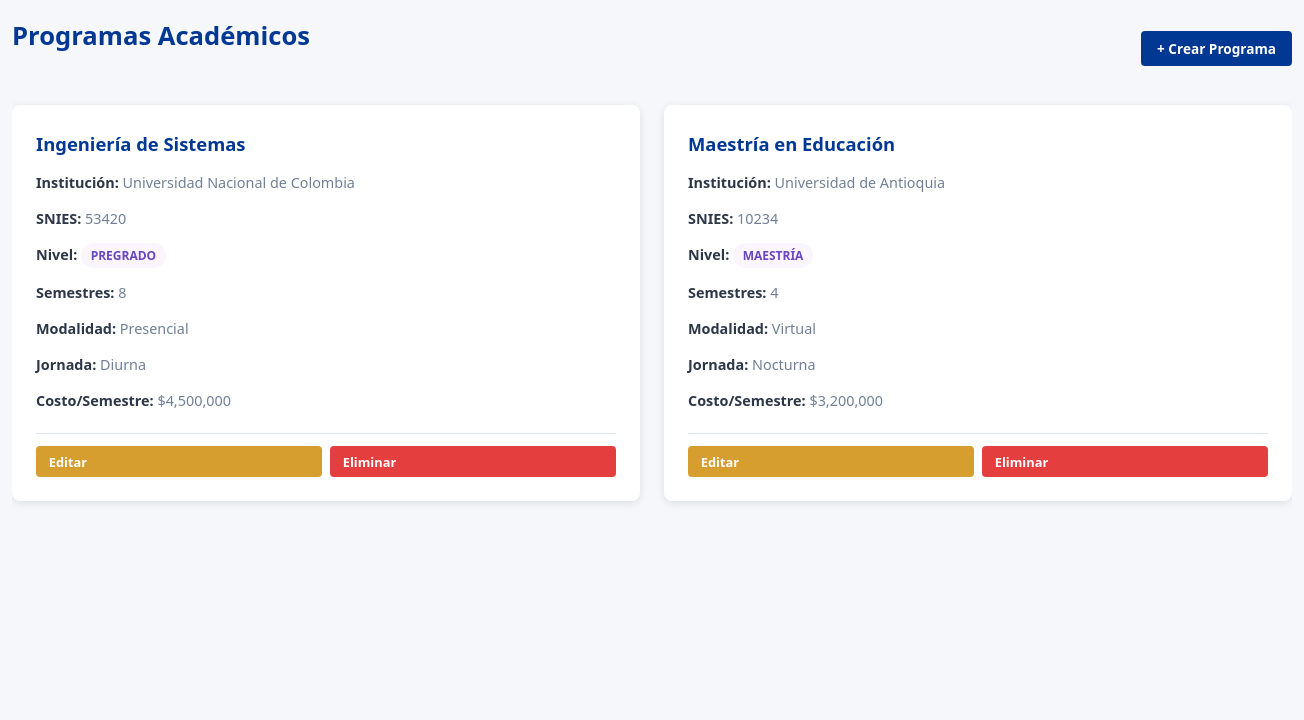
Test case: 7. Eliminación de programas (eliminarPrograma) › 7.3 Muestra error si la API de eliminación falla
The image size is (1304, 720).
Click the button "Eliminar" below "4,500,000" at (369, 462), box x1=330 y1=446 x2=616 y2=477
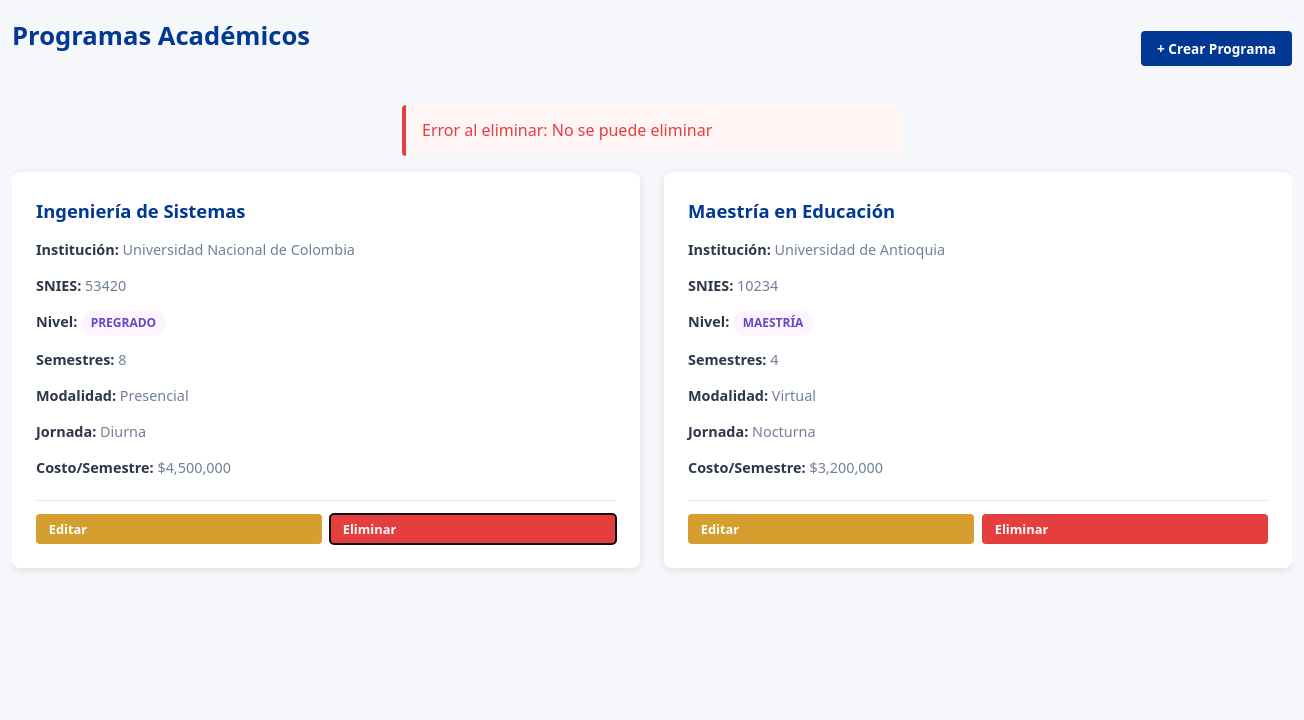
expect the text "Error al eliminar: No se puede eliminar" is shown: met, box x1=402 y1=105 x2=902 y2=156
